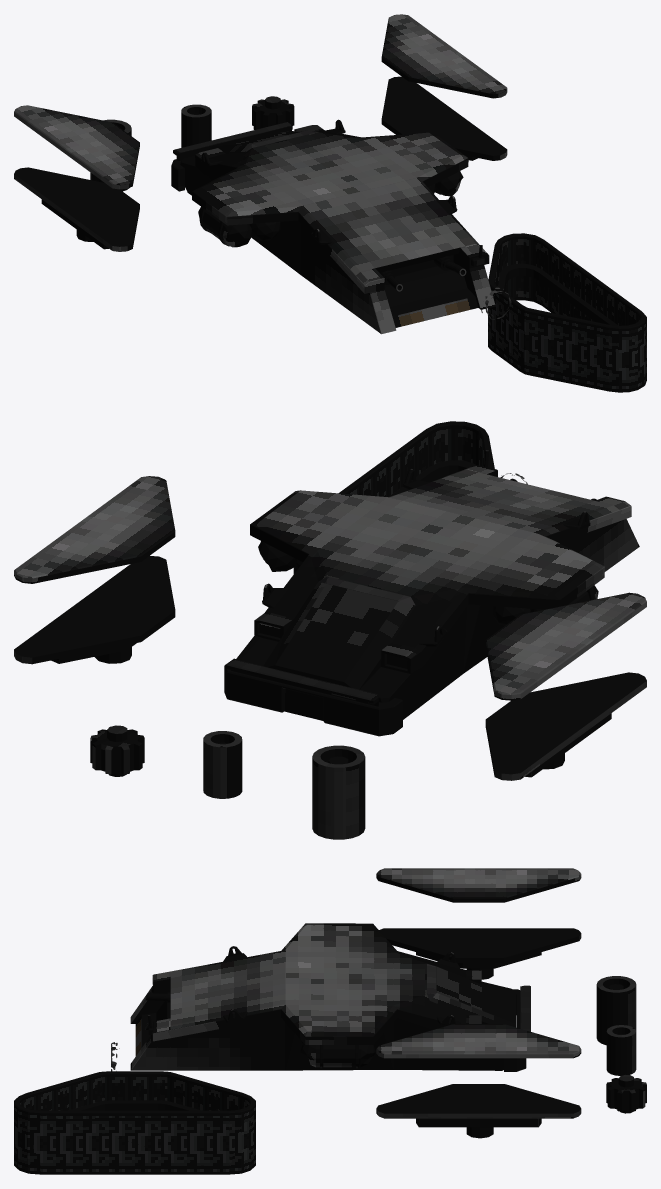
File: tank_broken.fbx
3 renders of one model, top to bottom at view 1: azimuth 30°, elevation 25°; view 2: azimuth 150°, elevation 25°; view 3: azimuth 270°, elevation 25°, orthographic. The views are drawn at different scales.
Visible parts, largest first — view 1: tank_broken_body, tank_broken_track, tank_broken_trackbase_left, tank_broken_trackbasetop_left, tank_broken_trackbasetop_right, tank_broken_trackbase_right, tank_broken_bumper, tank_broken_small_gear, tank_broken_mid_gear; view 2: tank_broken_body, tank_broken_trackbase_right, tank_broken_trackbase_left, tank_broken_trackbasetop_left, tank_broken_trackbasetop_right, tank_broken_bumper, tank_broken_track, tank_broken_large_gear, tank_broken_small_gear, tank_broken_mid_gear; view 3: tank_broken_body, tank_broken_track, tank_broken_trackbase_right, tank_broken_trackbase_left, tank_broken_trackbasetop_right, tank_broken_trackbasetop_left, tank_broken_large_gear, tank_broken_small_gear, tank_broken_mid_gear, tank_broken_bumper.
Boxes of the visible parts, <box> form: tank_broken_body: <box>180,119,495,334</box>; tank_broken_track: <box>488,233,646,392</box>; tank_broken_trackbase_left: <box>14,167,139,251</box>; tank_broken_trackbasetop_left: <box>14,105,139,189</box>; tank_broken_trackbasetop_right: <box>381,14,507,98</box>; tank_broken_trackbase_right: <box>381,76,507,160</box>; tank_broken_bumper: <box>171,122,293,191</box>; tank_broken_small_gear: <box>181,104,211,147</box>; tank_broken_mid_gear: <box>252,96,294,129</box>; tank_broken_body: <box>235,450,639,719</box>; tank_broken_trackbase_right: <box>14,556,175,664</box>; tank_broken_trackbase_left: <box>485,672,646,780</box>; tank_broken_trackbasetop_left: <box>485,592,646,700</box>; tank_broken_trackbasetop_right: <box>14,476,175,583</box>; tank_broken_bumper: <box>224,658,402,736</box>; tank_broken_track: <box>293,421,494,573</box>; tank_broken_large_gear: <box>312,745,365,839</box>; tank_broken_small_gear: <box>203,731,242,798</box>; tank_broken_mid_gear: <box>90,725,144,776</box>; tank_broken_body: <box>130,923,516,1070</box>; tank_broken_track: <box>14,1071,255,1174</box>; tank_broken_trackbase_right: <box>376,1084,581,1138</box>; tank_broken_trackbase_left: <box>379,928,581,979</box>; tank_broken_trackbasetop_right: <box>376,1024,581,1058</box>; tank_broken_trackbasetop_left: <box>376,868,581,902</box>; tank_broken_large_gear: <box>596,976,636,1045</box>; tank_broken_small_gear: <box>606,1025,636,1075</box>; tank_broken_mid_gear: <box>606,1075,646,1113</box>; tank_broken_bumper: <box>503,985,530,1071</box>.
Size of the model in its own units: 478 by 171 by 690.
3 materials, 3 textured.
